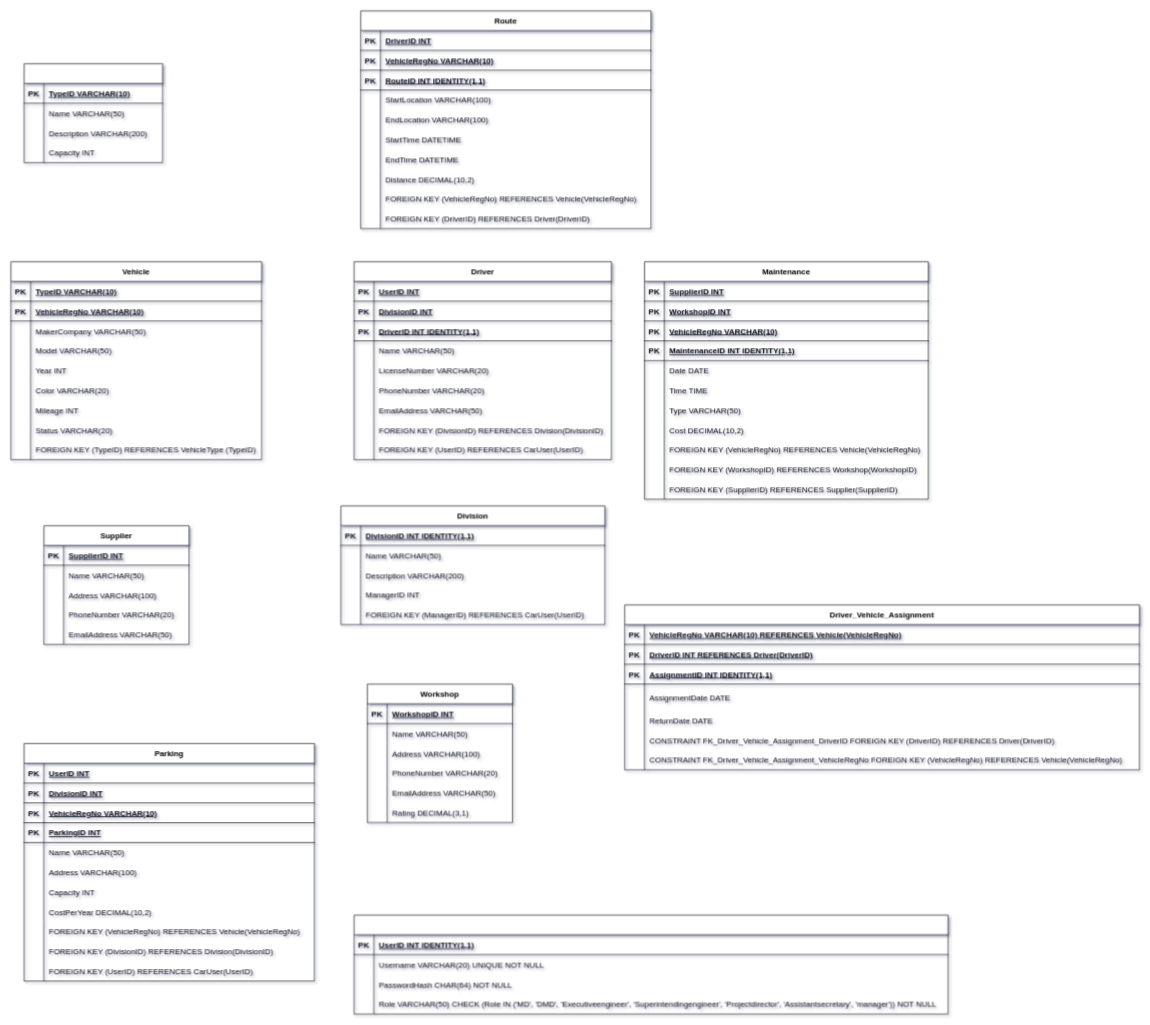
Some shapes in this 1150 by 1025 pixel diagram are drawn without their labels. The shapes that lost their labels are listed below. From the top down, each one's box as (x1, y1, x2, y2) in pixels, then its label:
(23, 63, 163, 163): VehicleType
(353, 914, 948, 1014): CarUser
